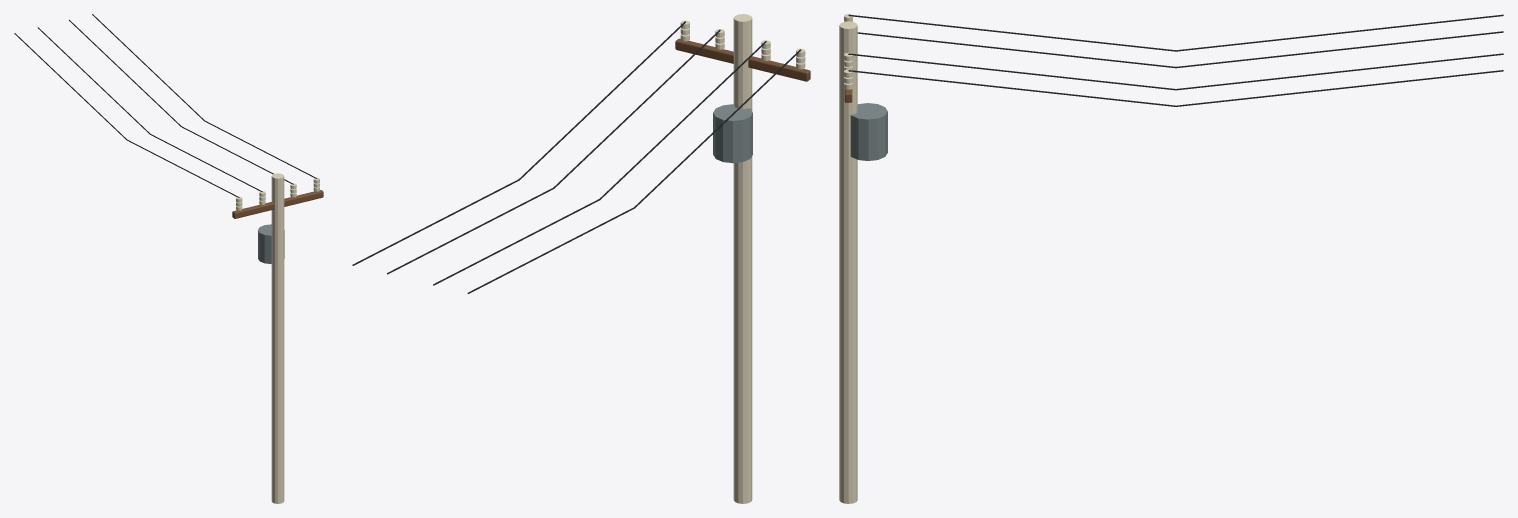
File: power-pole.glb
The picture shows the model from 3 angles, left to right: view 1: azimuth 30°, elevation 25°; view 2: azimuth 150°, elevation 25°; view 3: azimuth 270°, elevation 25°; orthographic projection. The views are drawn at different scales.
Visible parts, largest first — view 1: Concrete power pole, Power cable, Cross arm, Transformer; view 2: Concrete power pole, Power cable, Transformer, Cross arm; view 3: Concrete power pole, Power cable, Transformer.
Part boxes in pixels (x1,y1,x2,y2): Concrete power pole: (236, 173, 319, 503); Power cable: (14, 14, 317, 197); Cross arm: (232, 190, 323, 218); Transformer: (258, 224, 284, 263); Concrete power pole: (680, 14, 805, 503); Power cable: (352, 21, 801, 293); Transformer: (713, 104, 752, 163); Cross arm: (675, 38, 810, 81); Concrete power pole: (839, 14, 857, 503); Power cable: (848, 14, 1503, 106); Transformer: (850, 103, 887, 160).
Bounding box in the file's own units: 2.3 × 8 × 10.14.
